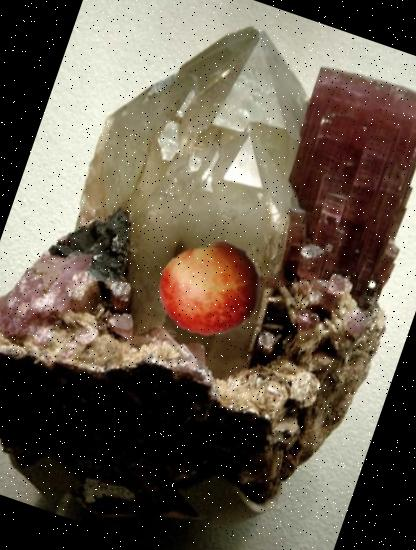Nectarine: (148, 226, 275, 353)
